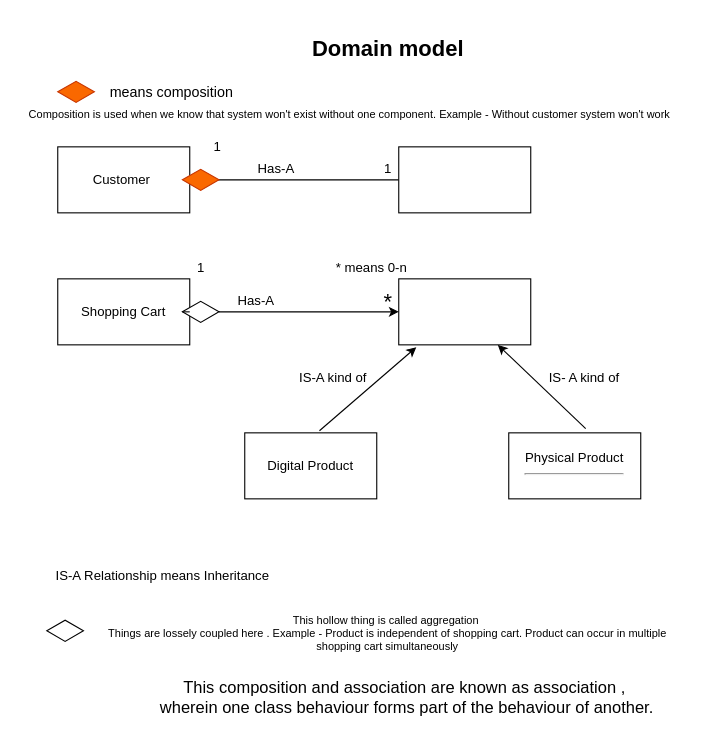
This 703x735 diagram has some shape labels left out. The centre of each missing label's shape, as x and y in pixels:
"Credit card" goes at [464,179].
"Product" goes at [464,311].
